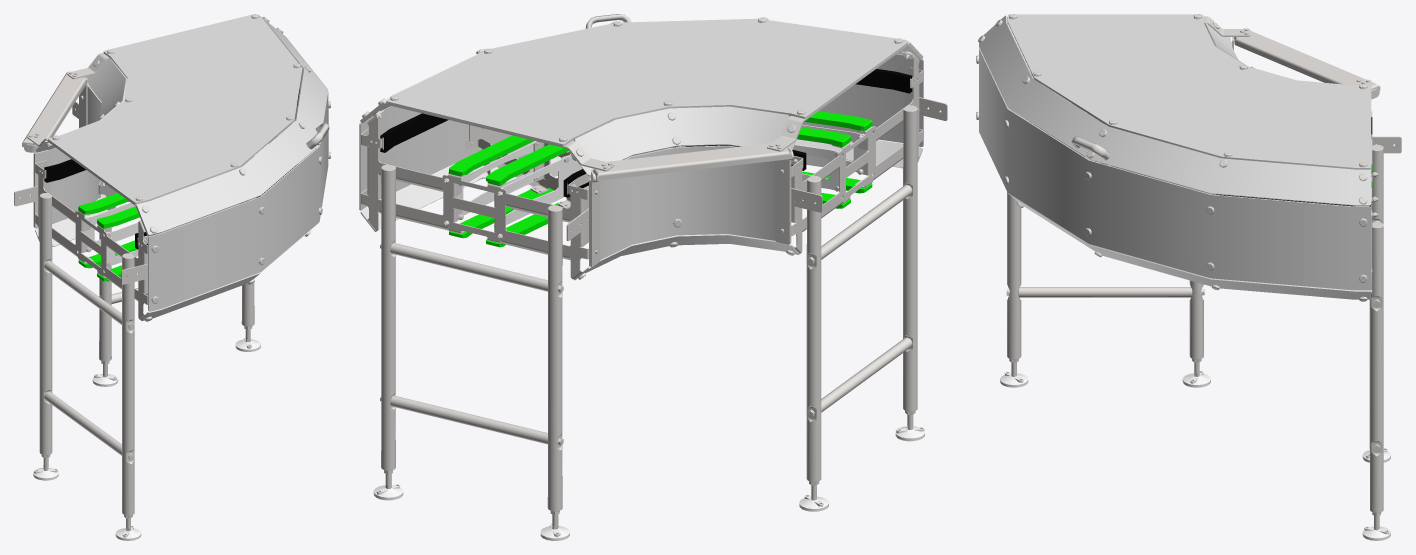
The picture shows the model from 3 angles, left to right: view 1: azimuth 30°, elevation 25°; view 2: azimuth 150°, elevation 25°; view 3: azimuth 270°, elevation 25°; orthographic projection. The views are drawn at different scales.
Visible parts, largest first — view 1: glass, base; view 2: glass, base; view 3: glass, base.
Boxes of the visible parts, box(x1,y1,x2,y2) form: glass: box(34, 14, 328, 320); base: box(14, 14, 330, 540); glass: box(359, 18, 923, 280); base: box(361, 14, 947, 540); glass: box(979, 14, 1371, 299); base: box(976, 14, 1401, 540).
Bounding box in the file's own units: 1.2 × 1.15 × 1.2.
Materials: 1 (1 with a texture image).
